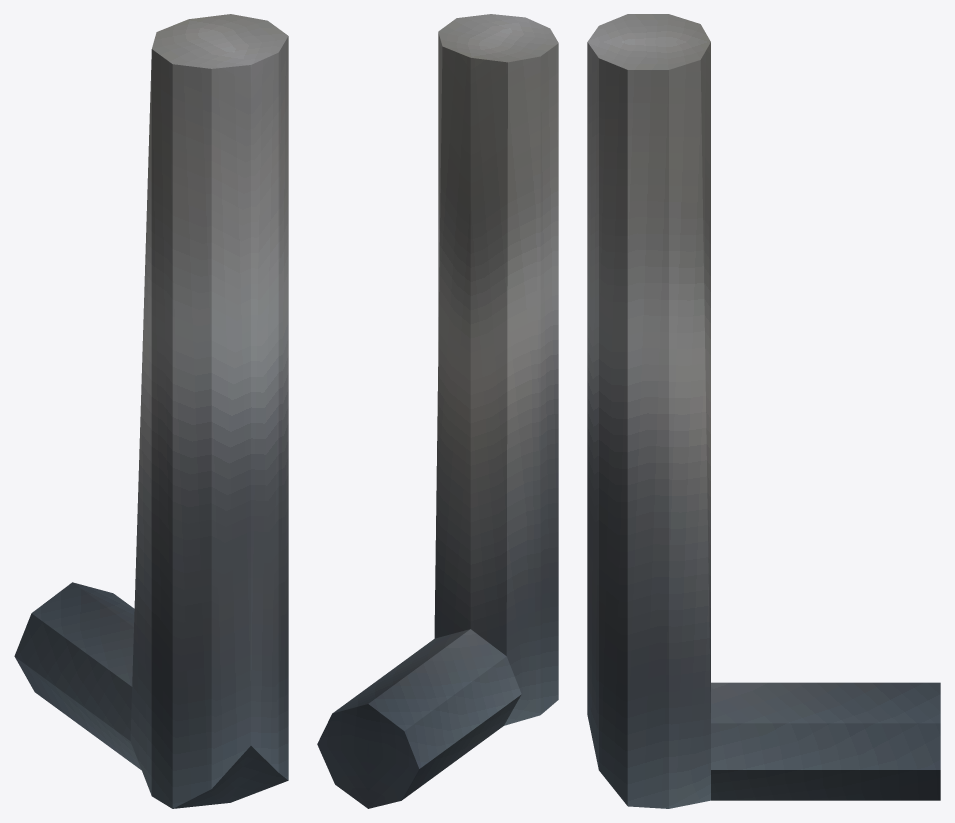
The model's file is Pipe.fbx.
3 renders of one model, left to right at view 1: azimuth 30°, elevation 25°; view 2: azimuth 150°, elevation 25°; view 3: azimuth 270°, elevation 25°, orthographic. The views are drawn at different scales.
Parts seen in each view (by area): view 1: Cube; view 2: Cube; view 3: Cube.
Part boxes in pixels (x1,y1,x2,y2): Cube: (14,14,288,808); Cube: (317,14,558,808); Cube: (587,14,940,808).
Bounding box in the file's own units: 128 × 812 × 342.
1 material, 1 textured.
